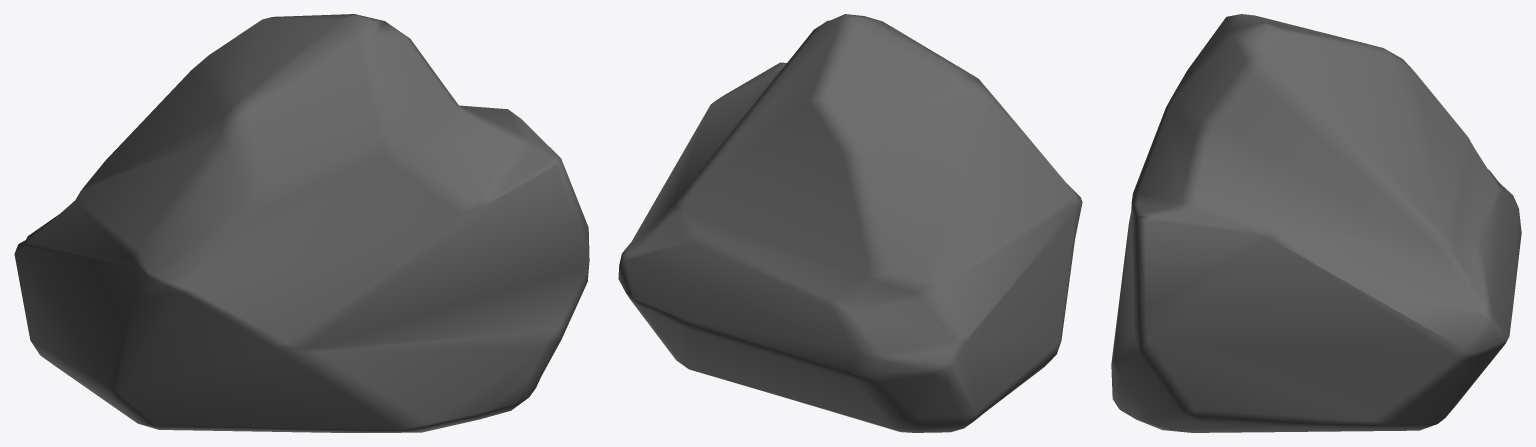
File: rock-04.glb
The picture shows the model from 3 angles, left to right: view 1: azimuth 30°, elevation 25°; view 2: azimuth 150°, elevation 25°; view 3: azimuth 270°, elevation 25°; orthographic projection. The views are drawn at different scales.
Visible parts, largest first — view 1: rock 04; view 2: rock 04; view 3: rock 04.
Part boxes in pixels (left/top/right/bottom): rock 04: left=14, top=14, right=589, bottom=432; rock 04: left=618, top=14, right=1082, bottom=432; rock 04: left=1111, top=14, right=1521, bottom=432.
Size of the model in its own units: 1.95 by 1.64 by 1.71.
1 material, 1 textured.
